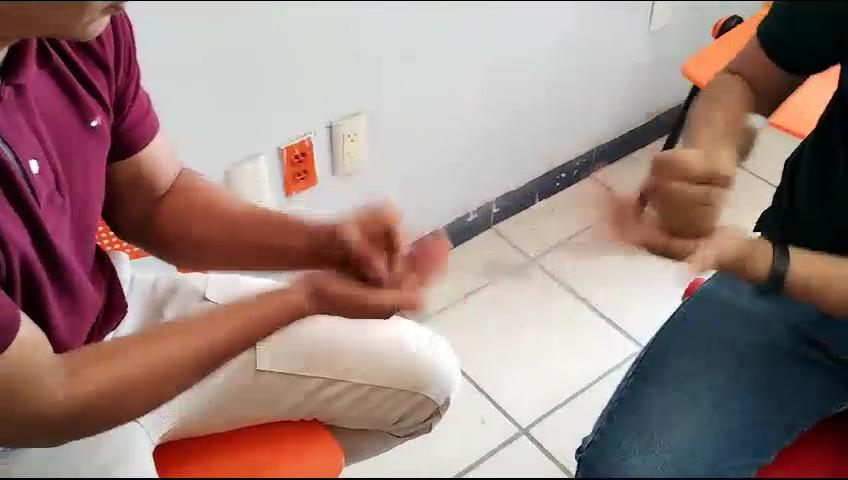Stone: (634, 131, 747, 256)
